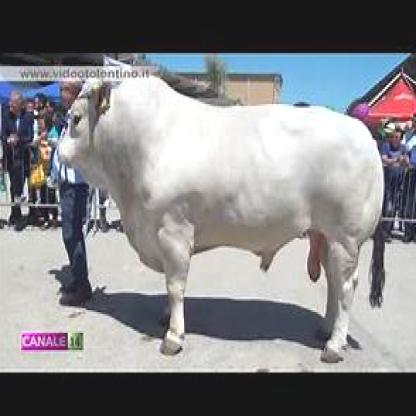cow: (57, 66, 386, 361)
